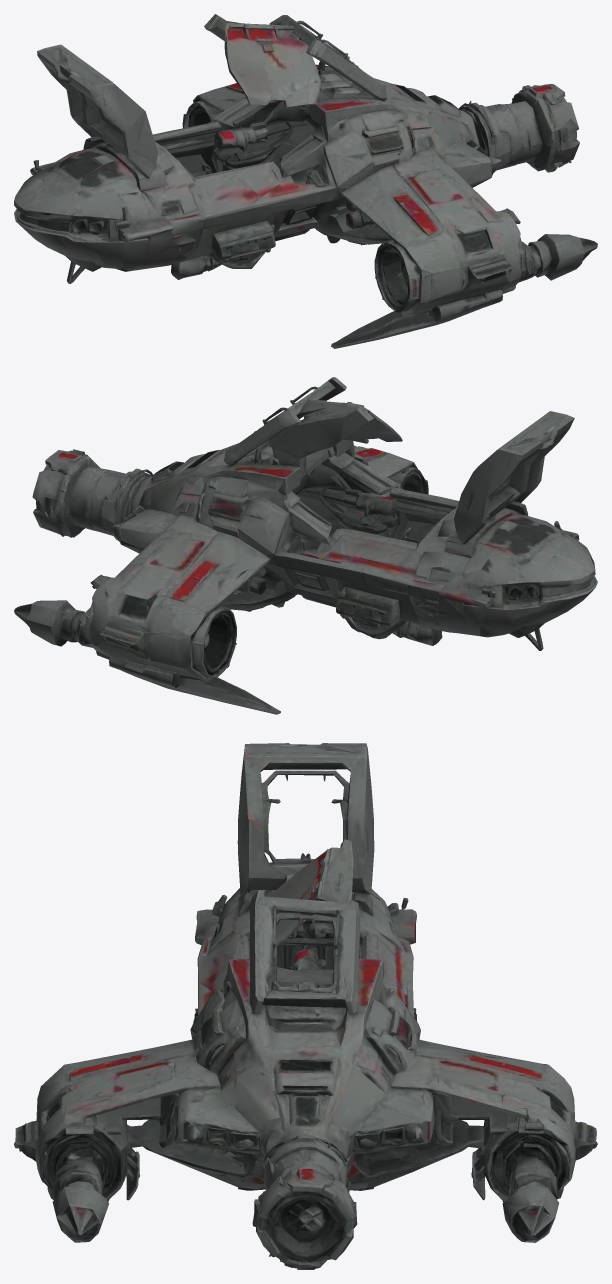
The model's file is mx_map_dropship.glb.
The picture shows the model from 3 angles, top to bottom: view 1: azimuth 30°, elevation 25°; view 2: azimuth 150°, elevation 25°; view 3: azimuth 270°, elevation 25°; orthographic projection. The views are drawn at different scales.
Size of the model in its own units: 1.89 by 0.8594 by 1.52.
Materials: 1 (1 with a texture image).
